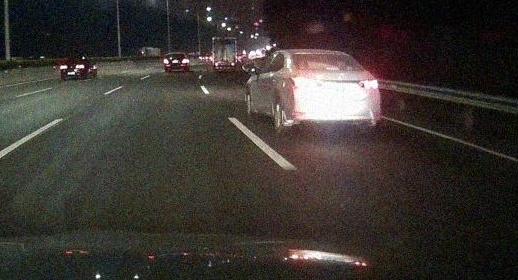L_light: (292, 77, 317, 89), (164, 59, 169, 63), (215, 63, 218, 66)
R_light: (361, 78, 378, 89), (182, 59, 188, 63), (231, 62, 235, 66)
T_light: (327, 66, 339, 70), (223, 39, 226, 40), (174, 54, 177, 55)
night-no: (288, 49, 381, 138), (212, 37, 237, 73), (164, 52, 189, 72)
